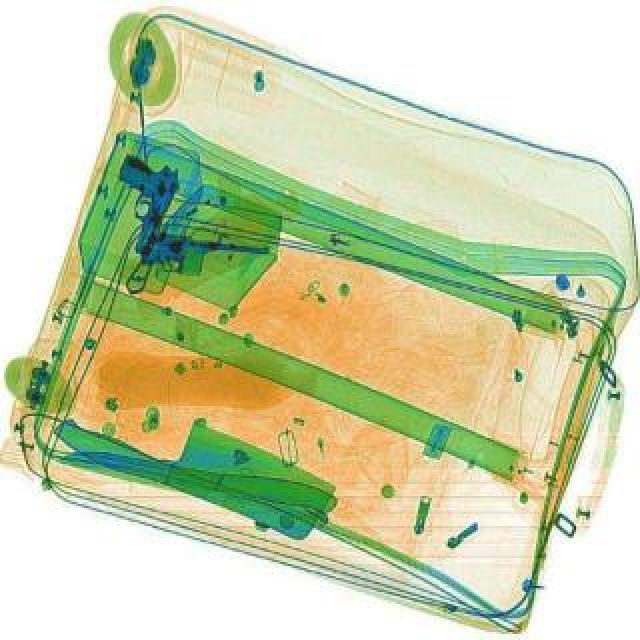gun: (116, 216, 272, 292), (106, 148, 182, 252)
knife: (42, 376, 344, 550), (46, 434, 346, 528)
